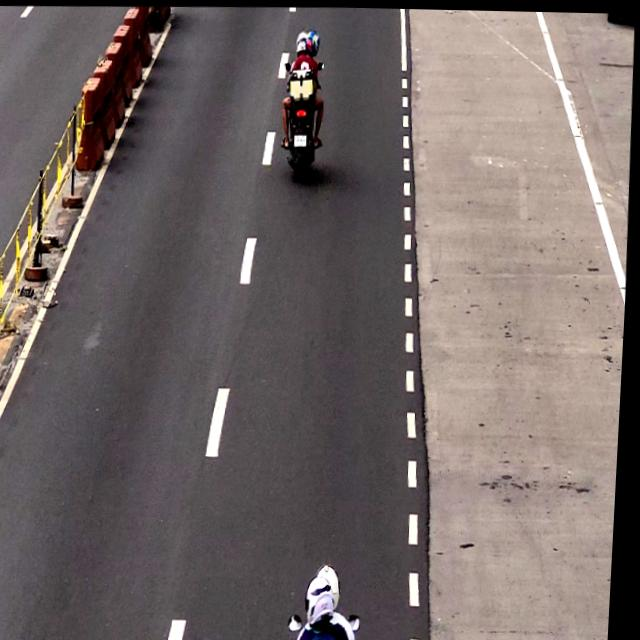Motorcycle: (278, 31, 329, 183)
